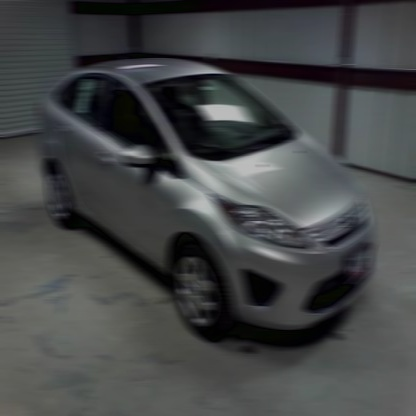Vehicle: (36, 55, 375, 345)
